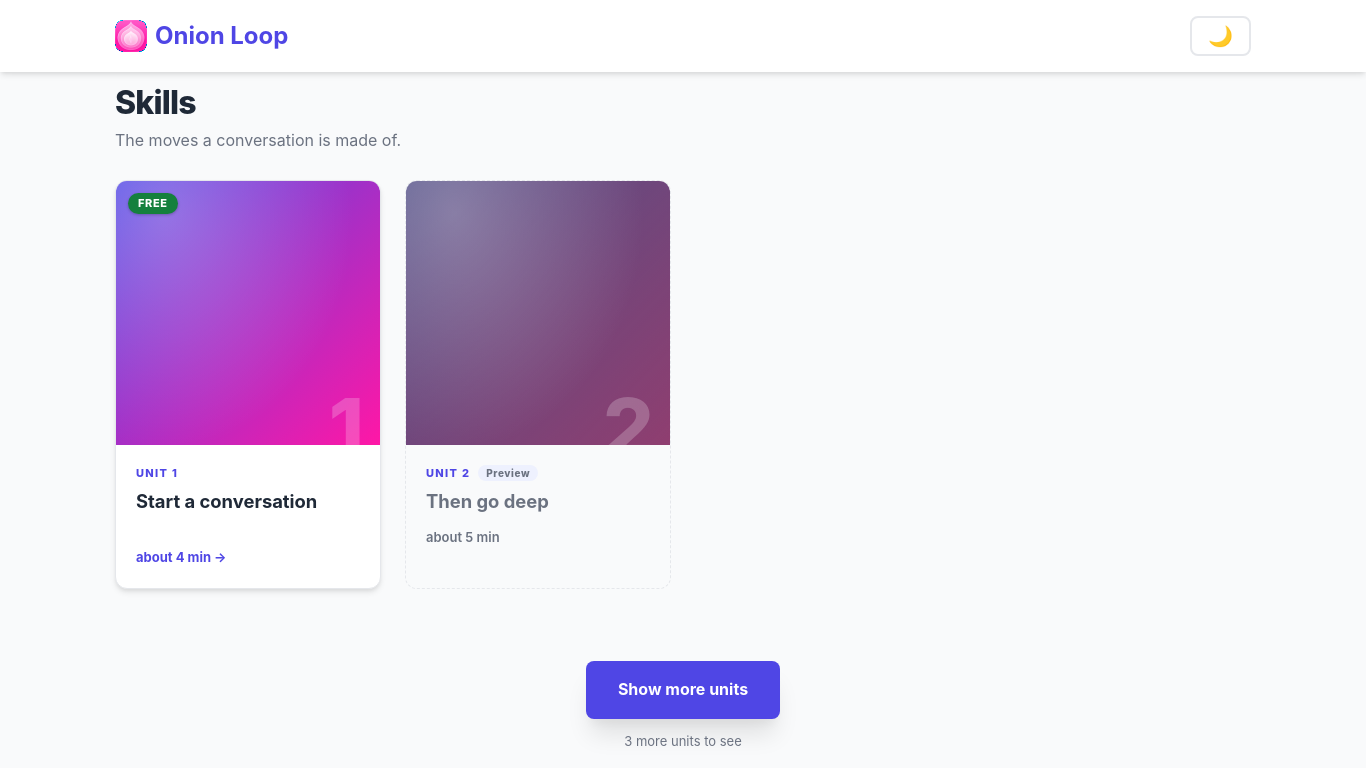
Test case: clicking a unit starts training, with nothing in between
The image size is (1366, 768).
(page scrolled)
Click the button "UNIT 1 Start a conversation Free about 4 min →" at (248,384), box [115, 180, 381, 589]
(page scrolled)
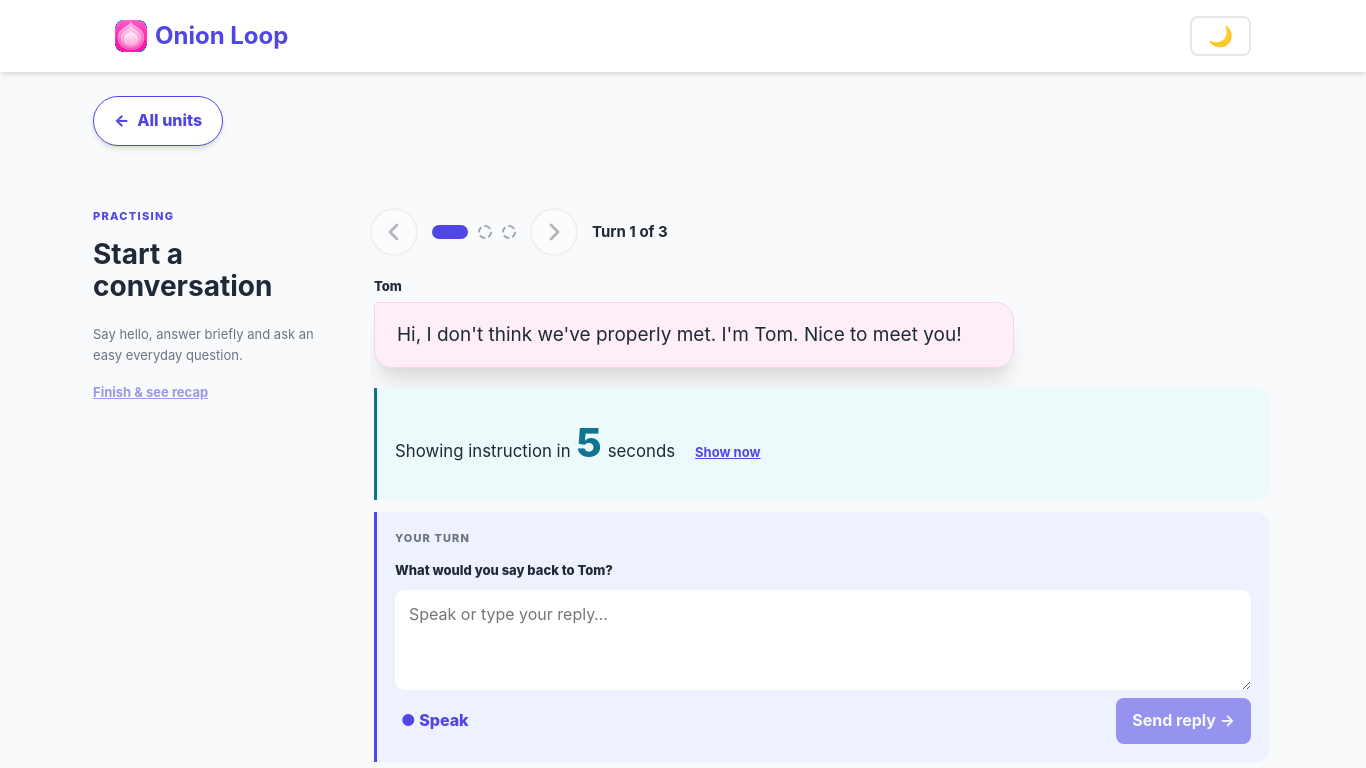
Now the text box is shown, box [395, 590, 1251, 690]
